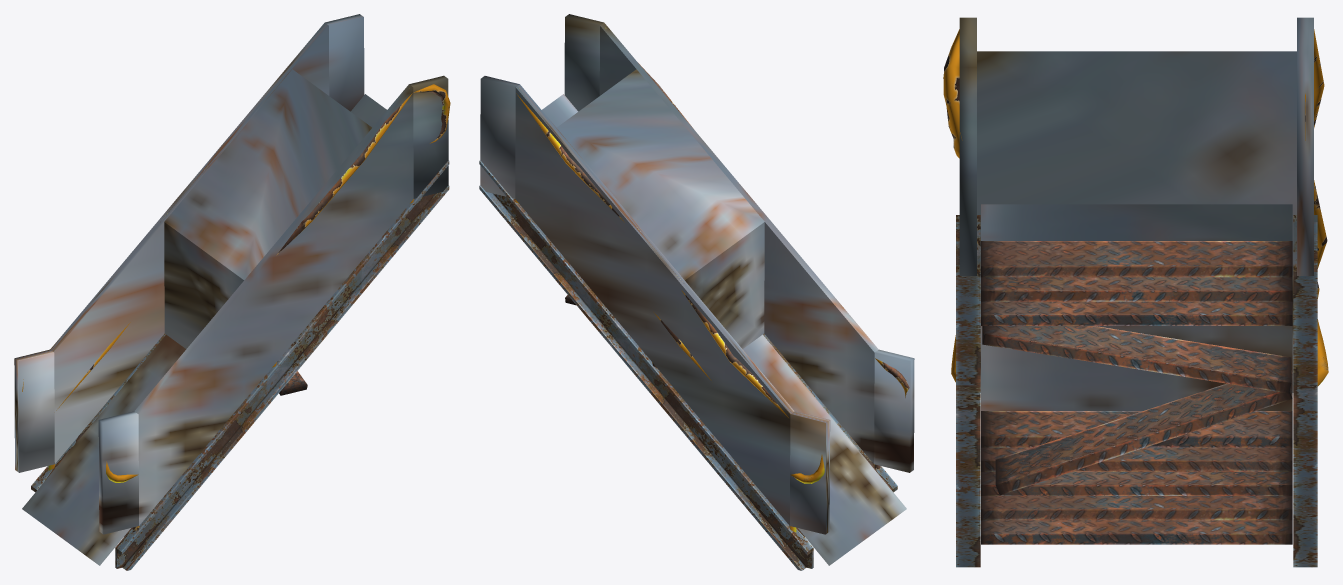
Rendered from platform_stairs02_B.FBX.
The picture shows the model from 3 angles, left to right: view 1: azimuth 30°, elevation 25°; view 2: azimuth 150°, elevation 25°; view 3: azimuth 270°, elevation 25°; orthographic projection. The views are drawn at different scales.
Parts seen in each view (by area): view 1: platform_stairs02_B_COL, platform_stairs02_B; view 2: platform_stairs02_B_COL, platform_stairs02_B; view 3: platform_stairs02_B, platform_stairs02_B_COL.
Boxes of the visible parts, bbox=[...] form: platform_stairs02_B_COL: bbox=[14, 14, 448, 565]; platform_stairs02_B: bbox=[22, 84, 450, 570]; platform_stairs02_B_COL: bbox=[480, 14, 914, 565]; platform_stairs02_B: bbox=[479, 63, 909, 570]; platform_stairs02_B: bbox=[943, 29, 1328, 567]; platform_stairs02_B_COL: bbox=[959, 17, 1313, 410].
Bounding box in the file's own units: 328 × 374 × 158.
